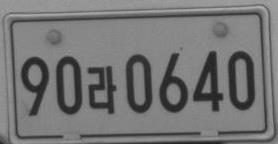0: (227, 50, 255, 110), (125, 53, 152, 114), (55, 55, 82, 115)
4: (192, 50, 223, 111)
6: (159, 52, 188, 113)
9: (20, 55, 49, 116)
라: (87, 65, 117, 114)
